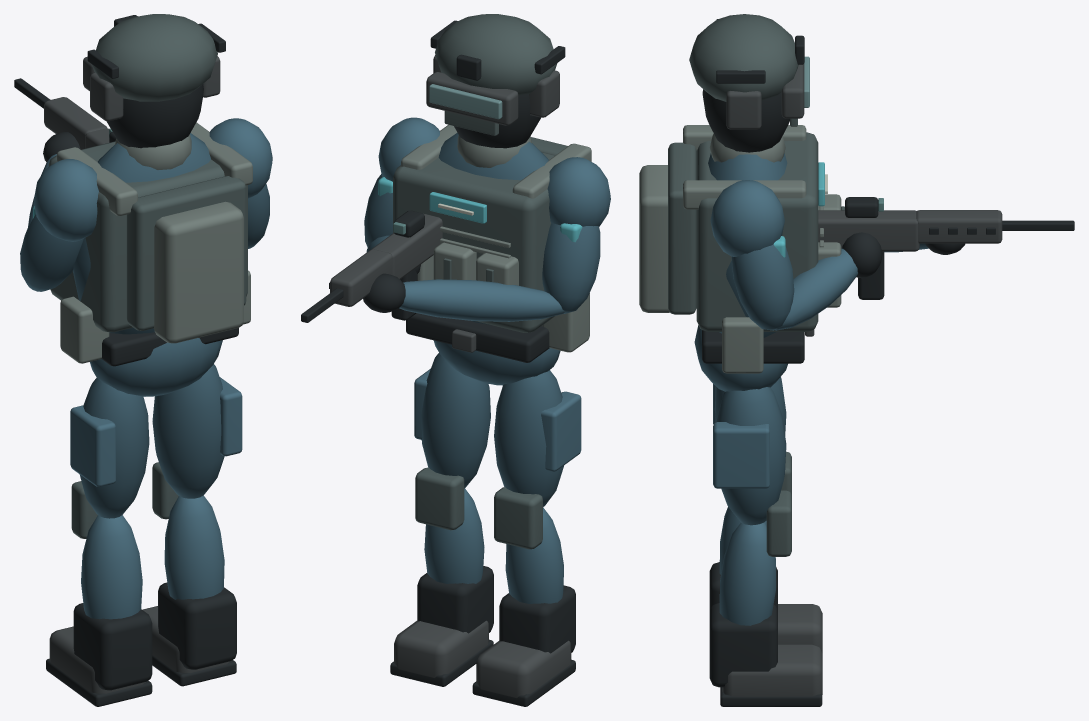
File: ct_operator.glb
3 renders of one model, left to right at view 1: azimuth 30°, elevation 25°; view 2: azimuth 150°, elevation 25°; view 3: azimuth 270°, elevation 25°, orthographic. The views are drawn at different scales.
Visible parts, largest first — view 1: equipped_body, leg_l_equipment, leg_r_equipment; view 2: equipped_body, leg_l_equipment, leg_r_equipment; view 3: equipped_body, leg_r_equipment, leg_l_equipment.
Boxes of the visible parts, x1,y1,x2,y2 form: equipped_body: (14,14,272,396); leg_l_equipment: (46,378,152,706); leg_r_equipment: (142,364,242,686); equipped_body: (301,14,610,385); leg_l_equipment: (472,370,581,706); leg_r_equipment: (390,353,493,686); equipped_body: (639,14,1074,391); leg_r_equipment: (709,387,822,706); leg_l_equipment: (709,377,822,653).
Bounding box in the file's own units: 0.7095 × 1.89 × 1.15.
